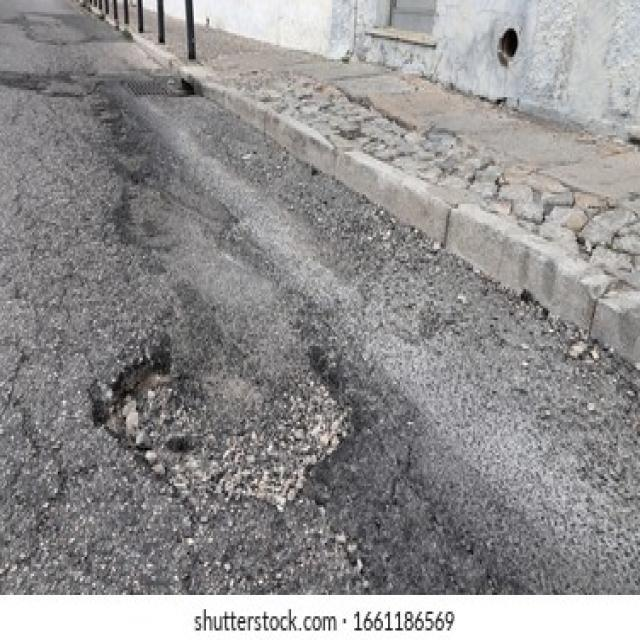Pothole: (92, 313, 362, 512)
